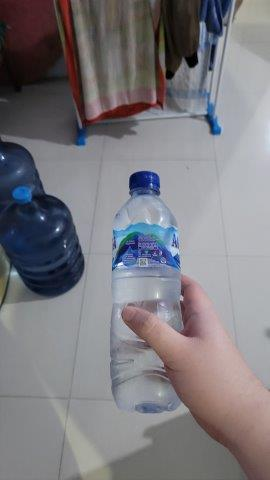botolplastik: (111, 167, 188, 414)
